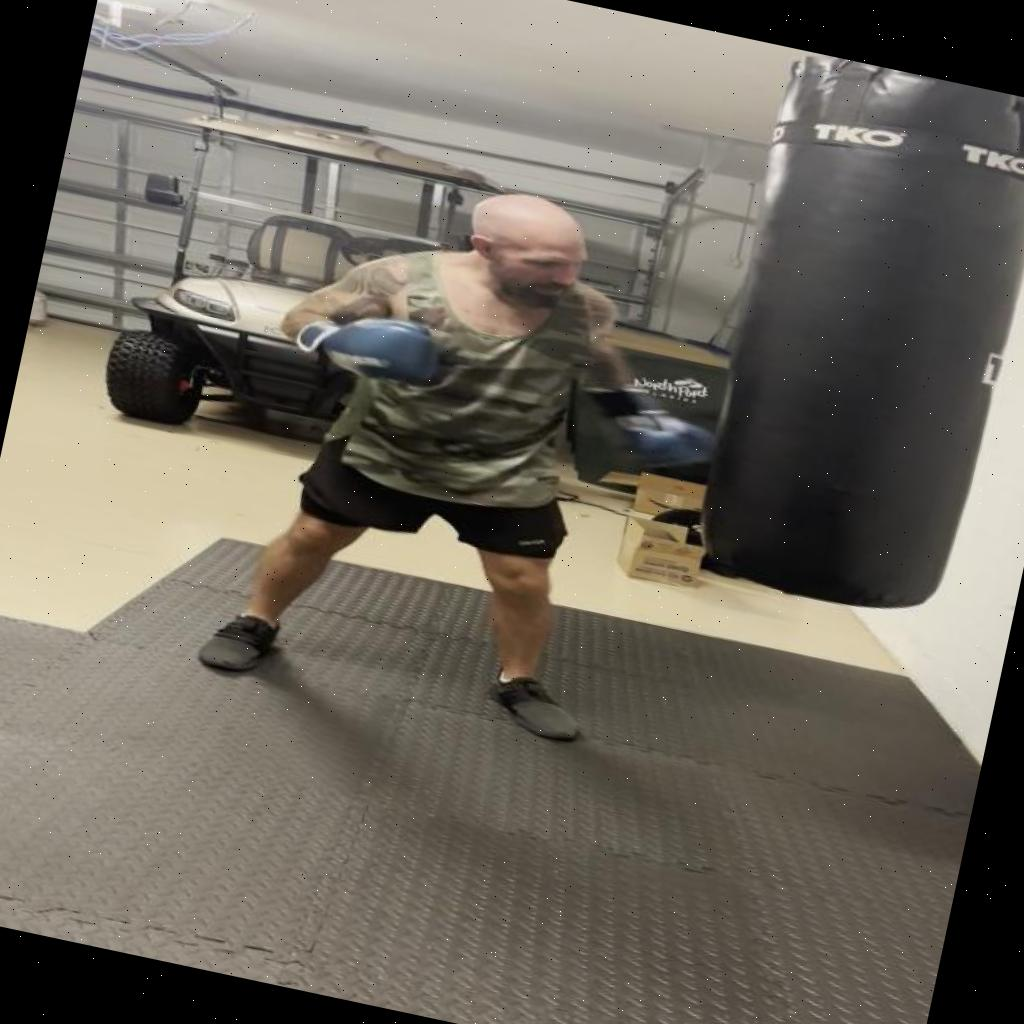bag: (662, 55, 1024, 637)
hook: (270, 132, 805, 498)
